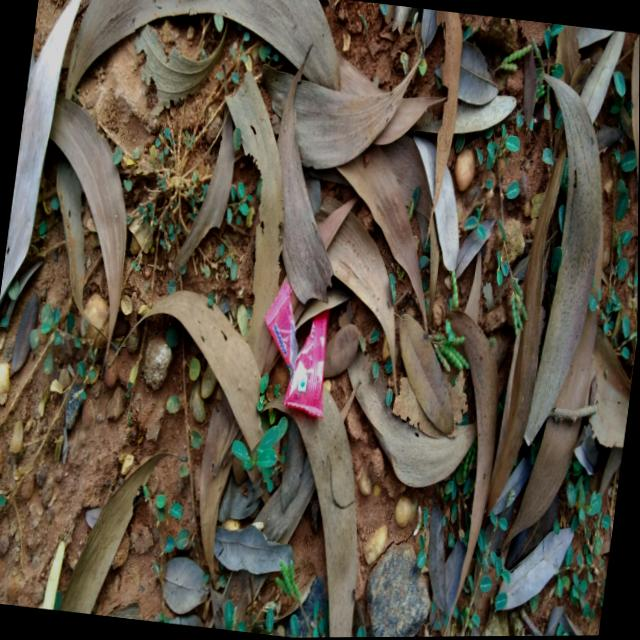Plastic: (247, 264, 349, 427)
